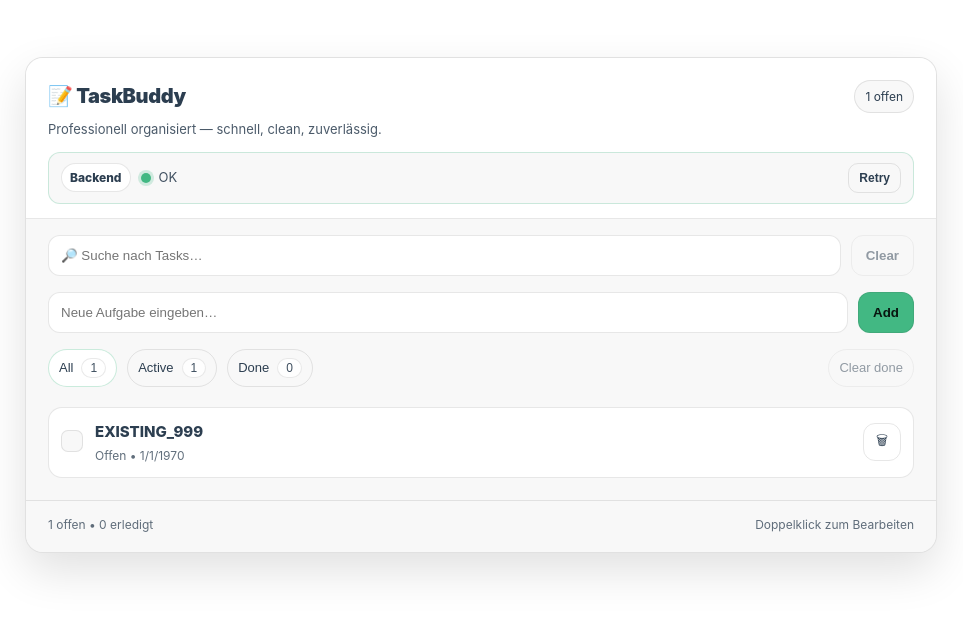
ToDoList.vue (10 Tests, stabil, ohne any) › 3) Add: POST erstellt Task und erscheint in Liste
This screenshot has width=963, height=638.
In the field with id "newTask": (448, 312) [48,292,848,333], type "NEW_TASK_777"
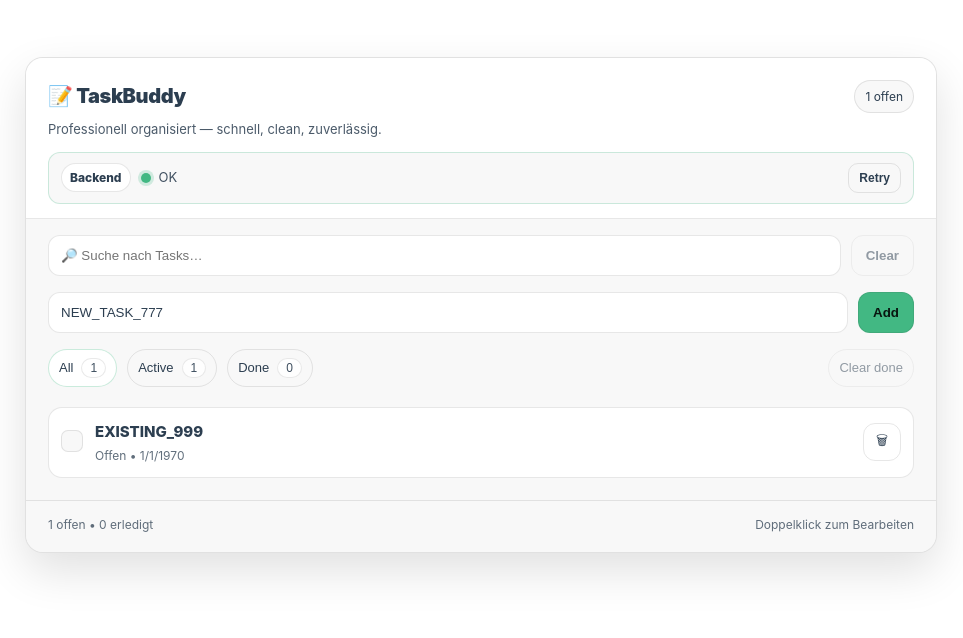
Click the button "Add": (886, 312) [858,292,914,333]
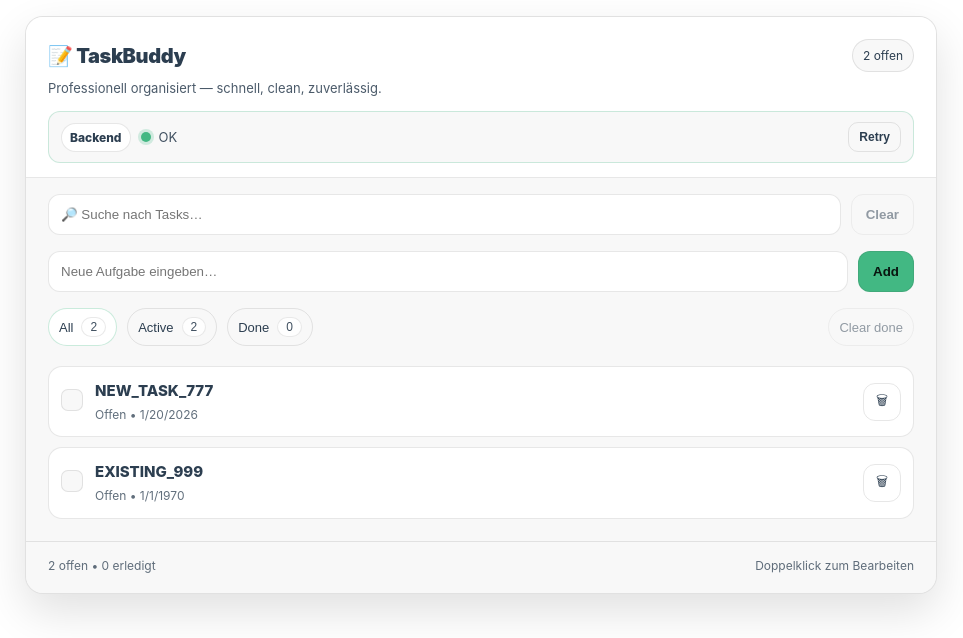
expect the text "NEW_TASK_777" is shown: met, box [95,381,213,400]
